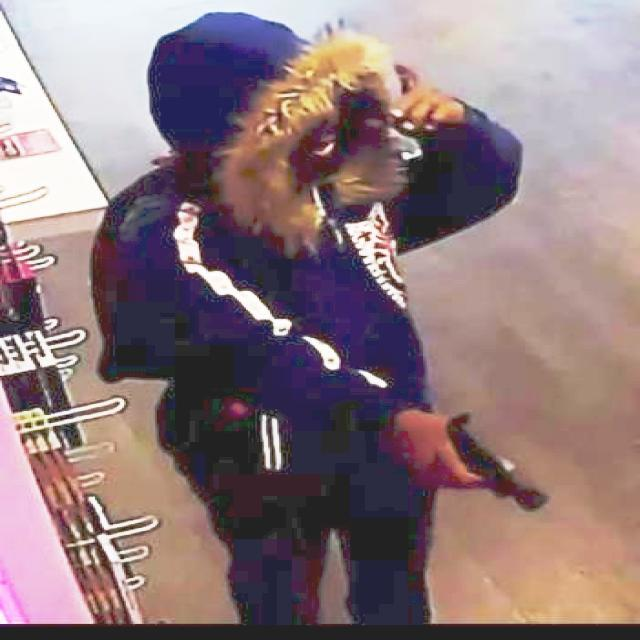Gun: (445, 389, 554, 523)
